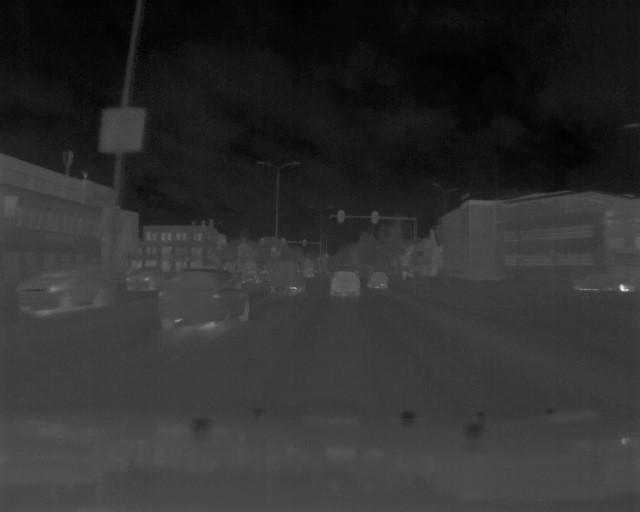car: (159, 268, 254, 336), (16, 267, 113, 315), (272, 261, 311, 298), (328, 269, 363, 300)
